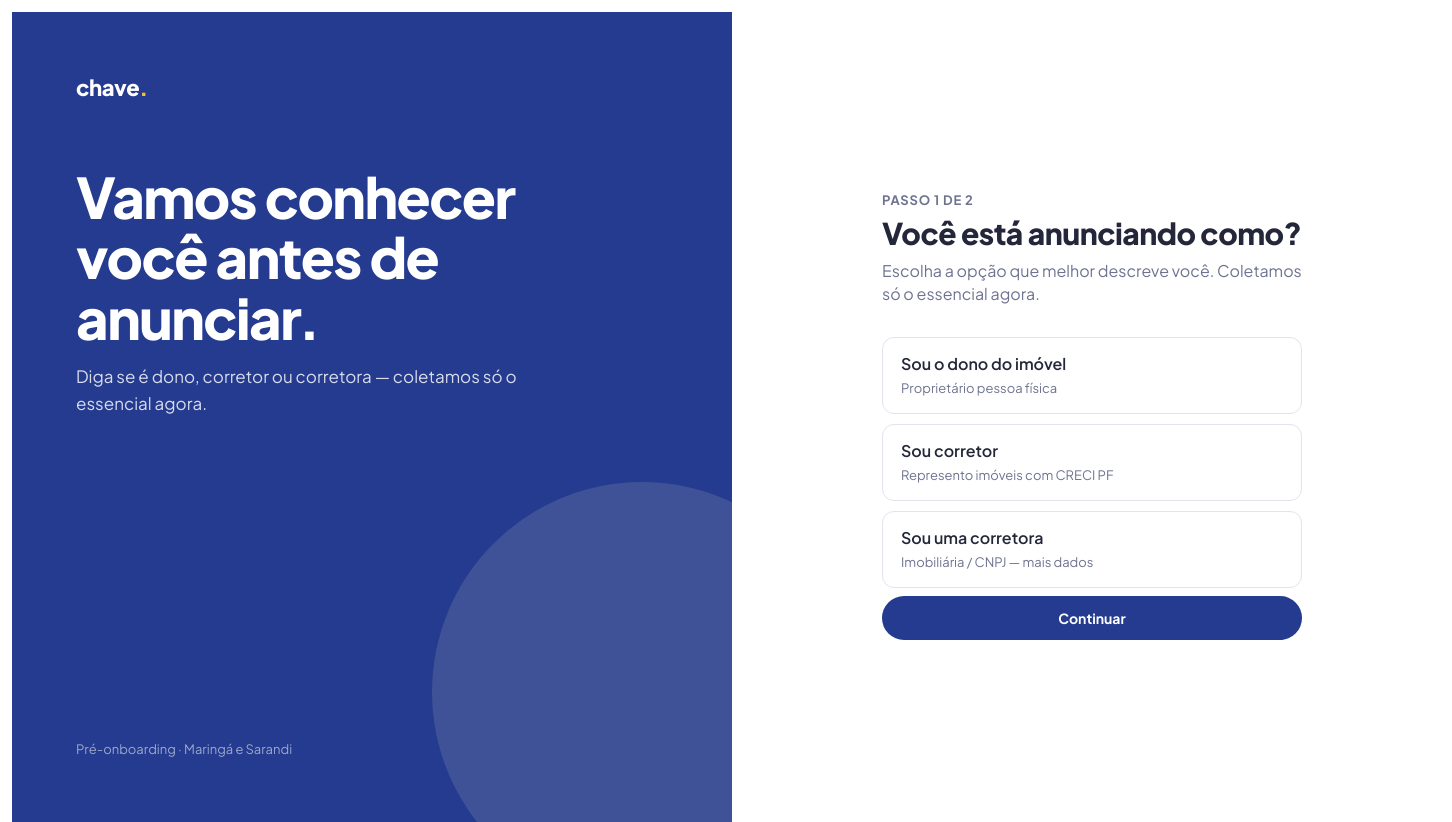
Test: OnboardingListPage › completes proprietario persona and marks onboarding done
Expected: the heading "Você está anunciando como?" is shown, [882,215,1302,251]
Click the radio button labelled "Sou o dono do imóvel Proprietário pessoa física" at {"x": 984, "y": 364}, box [882,337,1302,414]
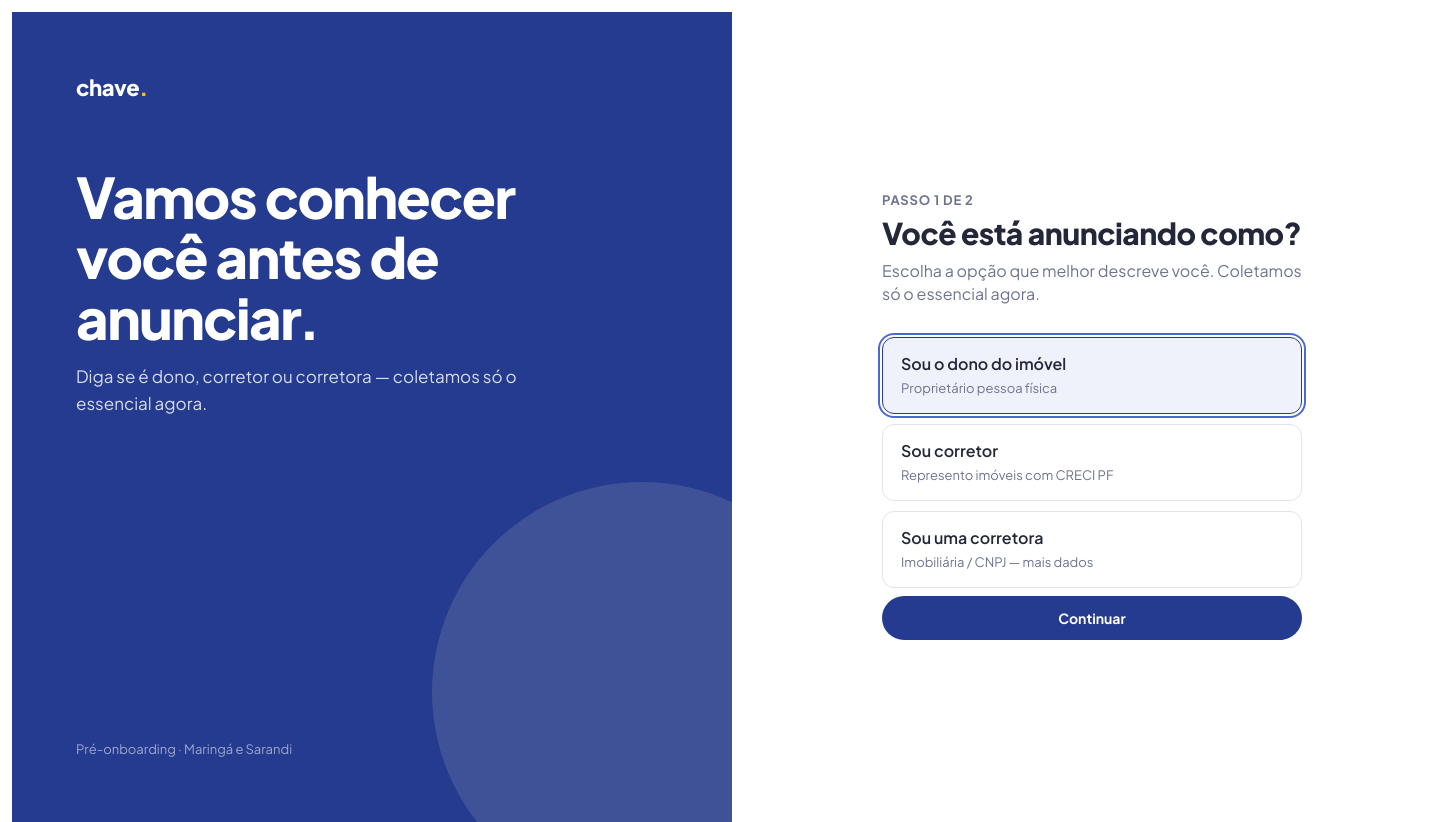
Click the button "Continuar" at {"x": 1092, "y": 618}, box [882,596,1302,640]
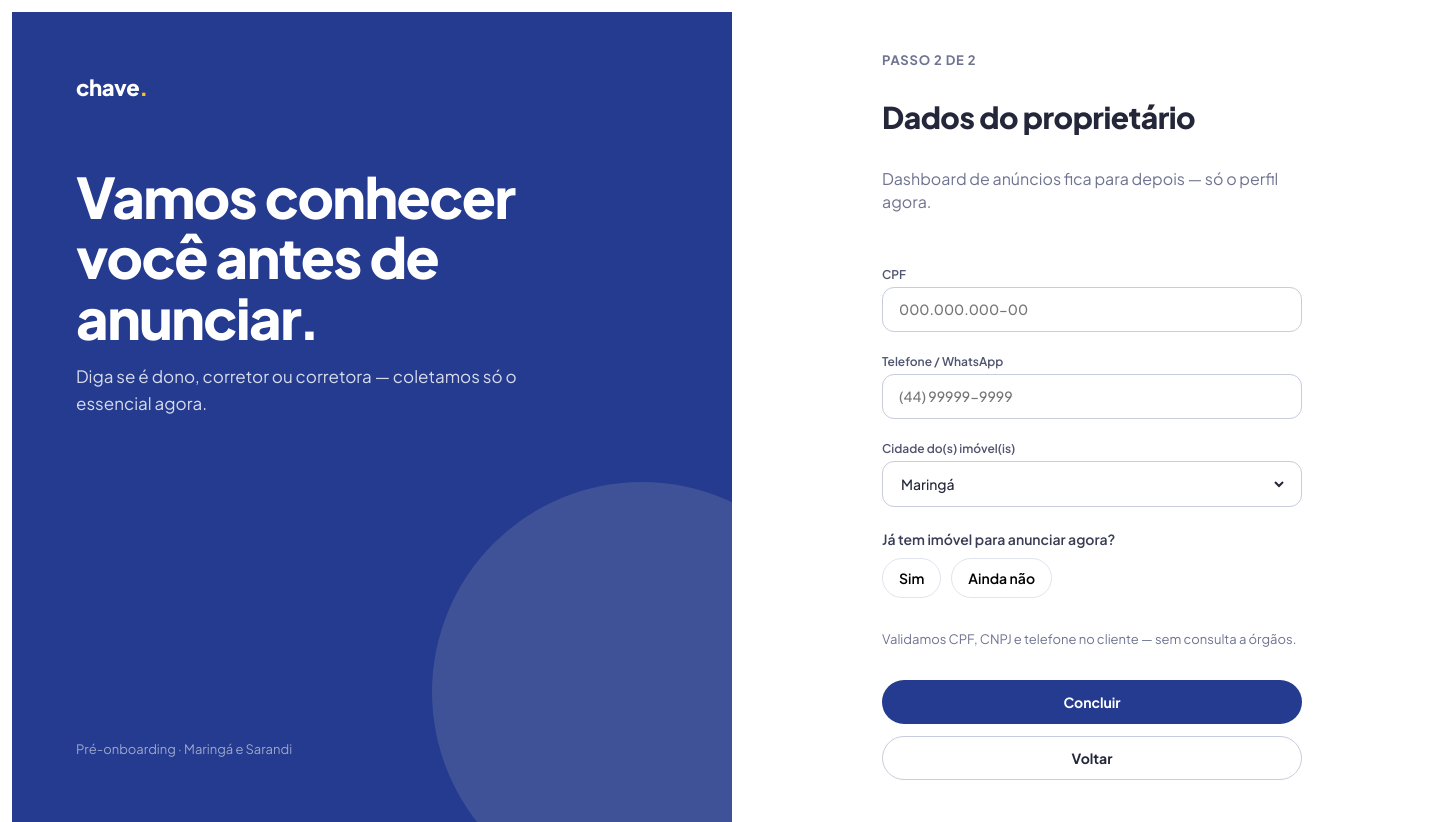
Expected: the heading "Dados do proprietário" is shown, [882,98,1195,136]
Type "39053344705" into the field labelled "CPF" at {"x": 1092, "y": 310}, box [897,300,1287,319]
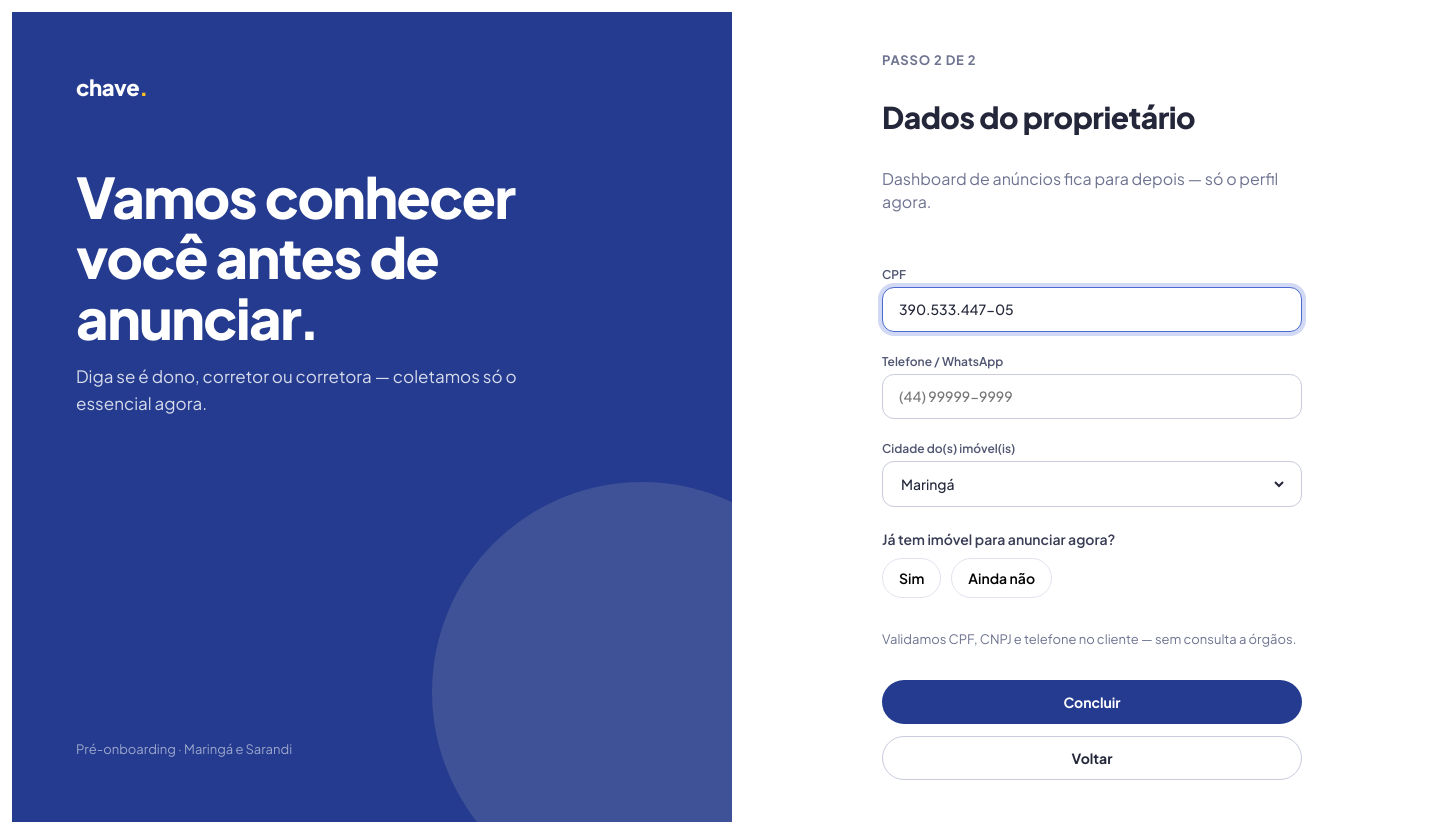
Type "44999999999" into the field labelled "Telefone / WhatsApp" at {"x": 1092, "y": 397}, box [897,387,1287,406]
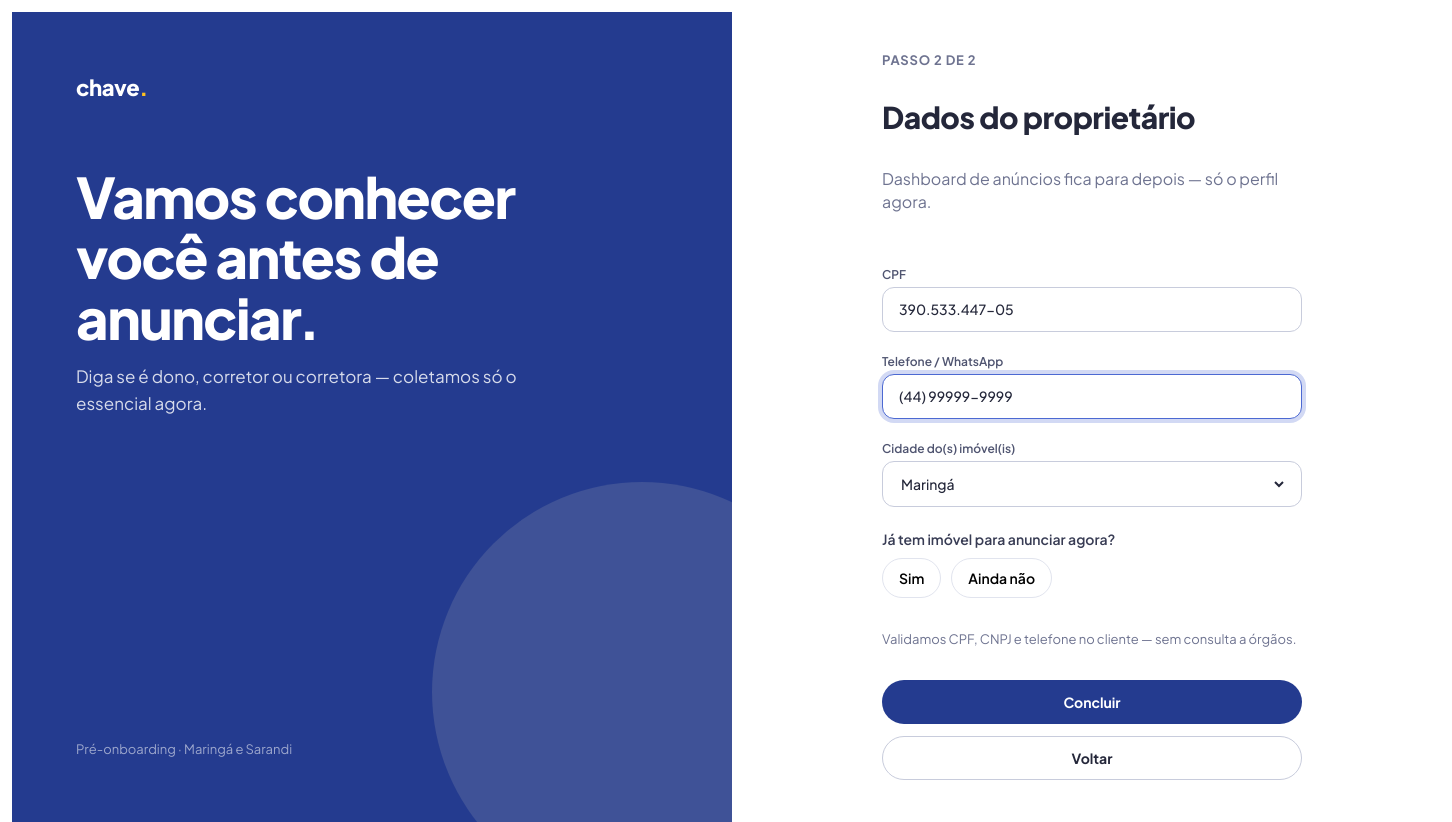
Click the radio button labelled "Sim" at {"x": 912, "y": 578}, box [882,558,941,598]
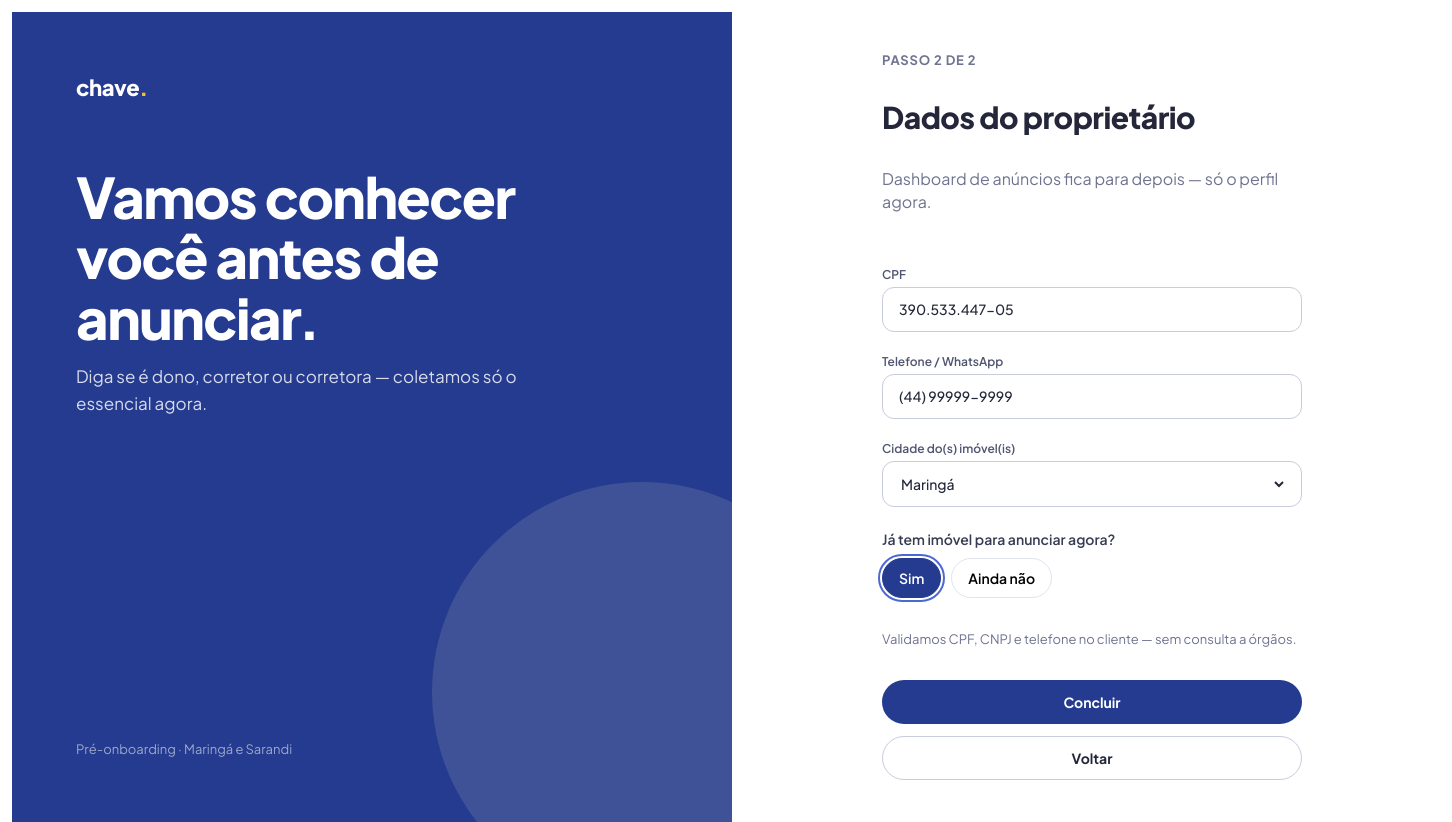
Click the button "Concluir" at {"x": 1092, "y": 702}, box [882,680,1302,724]
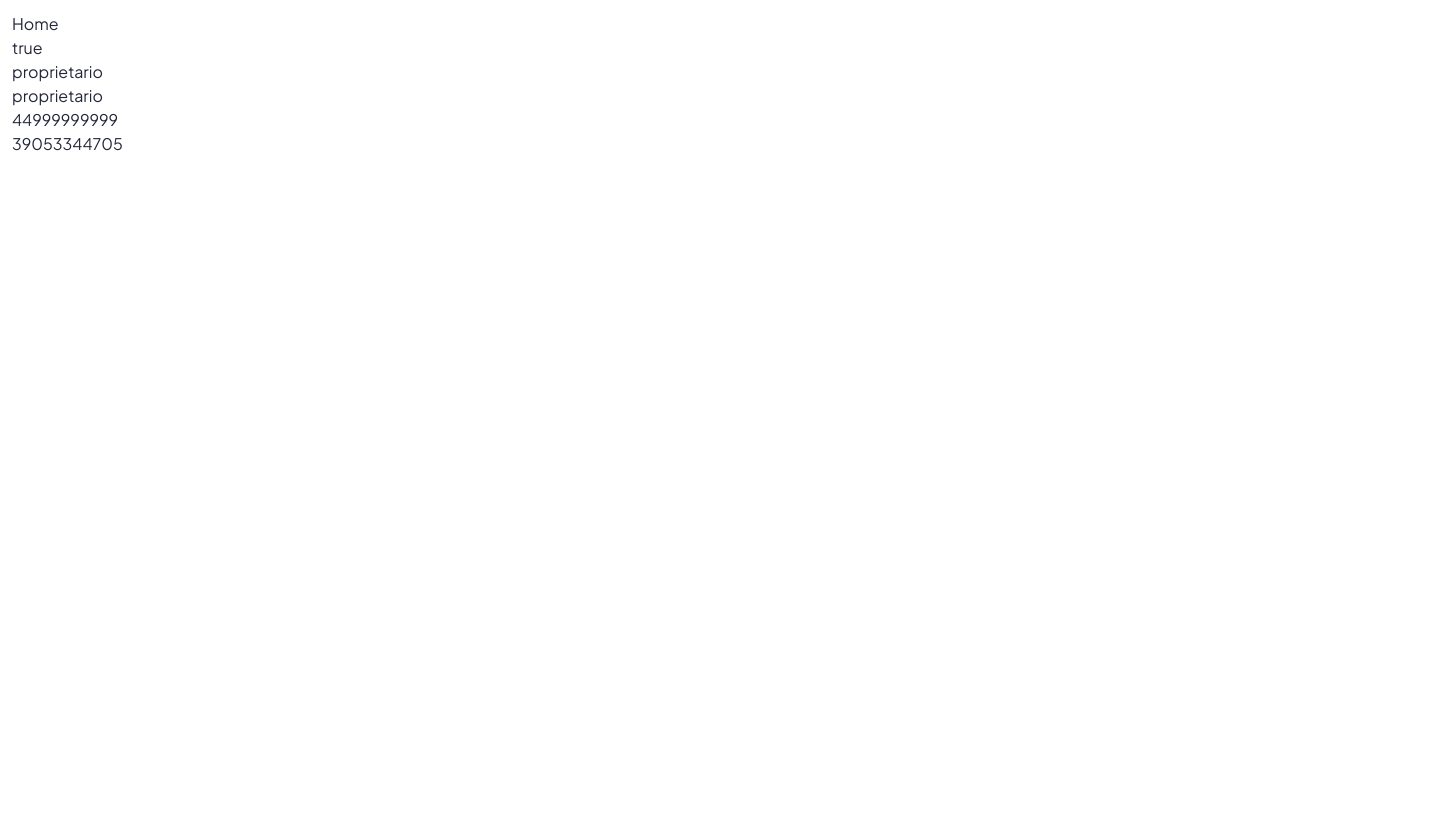
Expected: the text "Home" is shown, [12,13,59,34]
Expected: the text with test id "complete" reads "true", [12,37,43,58]
Expected: the text with test id "role" reads "proprietario", [12,61,103,82]
